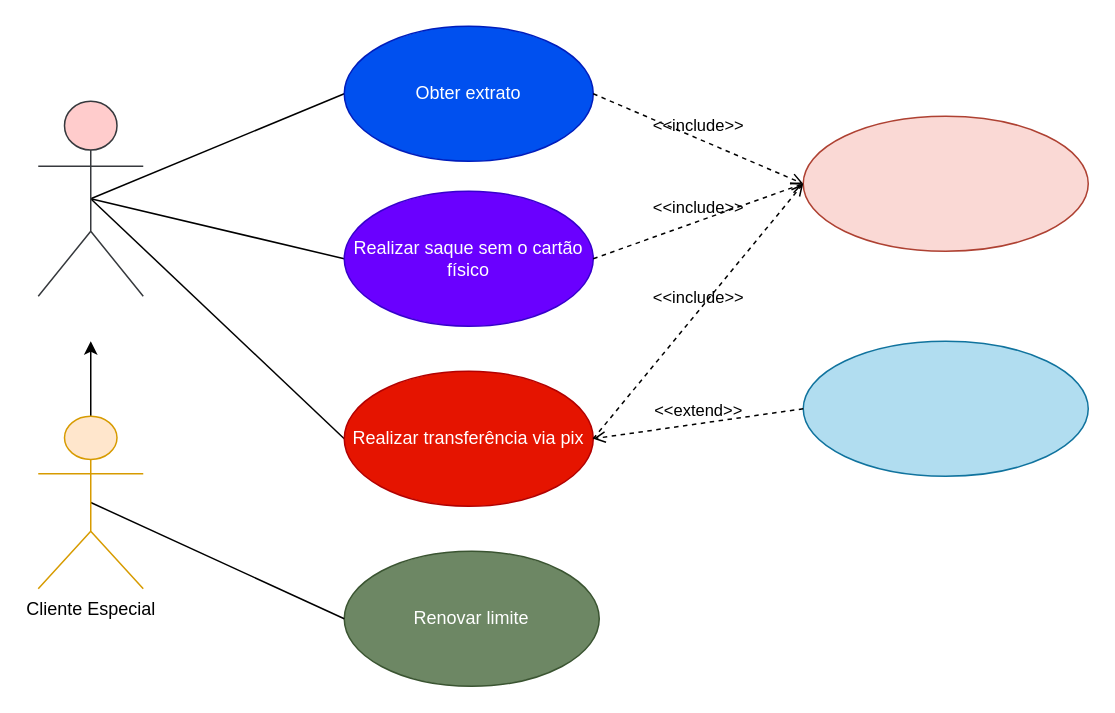
This 1115x713 diagram has some shape labels left out. Here are the shapes that lost their labels. From the top down, the box of each, then its label:
(37, 100, 143, 296): Cliente
(802, 115, 1088, 251): Fornecer identificação
(802, 340, 1088, 476): Consultar lista de contatos salvos
